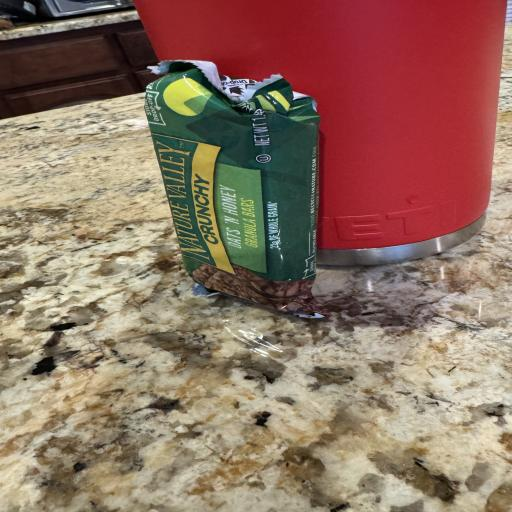granola: (146, 61, 327, 317)
